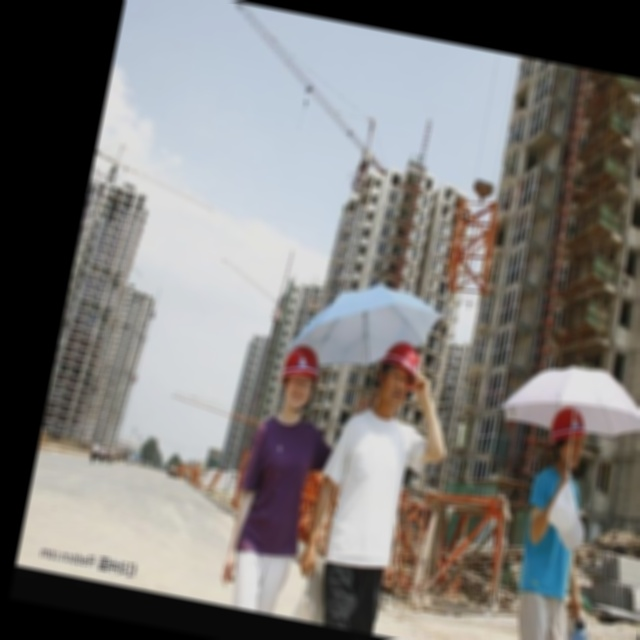Sin_Chaleco: (324, 408, 417, 576), (234, 403, 323, 565)
